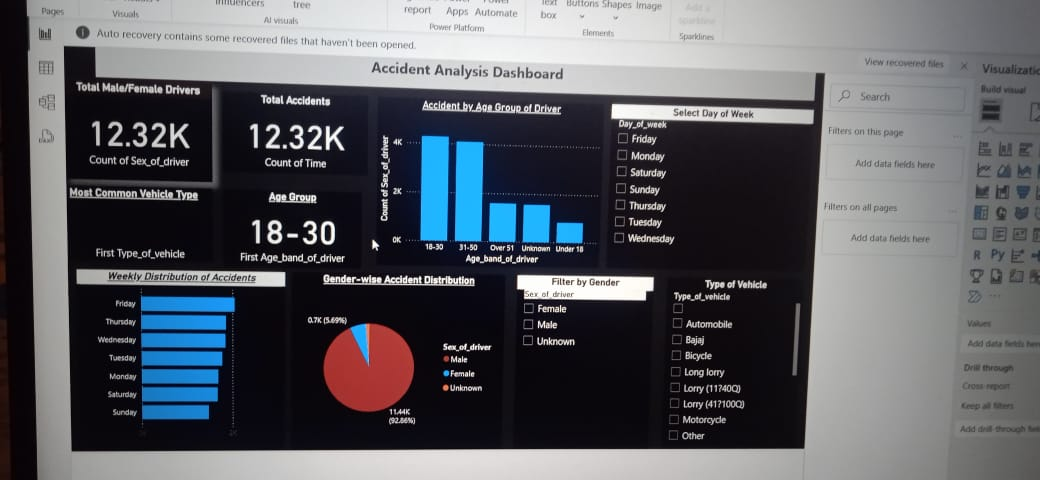

The page's visual inventory and layout, read from the dashboard file:
{"tool":"powerbi","page":{"name":"accident-analysis-dashboard1","canvas":[1280,720],"ordinal":0},"visuals":[{"type":"barChart","title":"Weekly Distribution of Accidents","fields":{"Category":["accident dataset1.Day_of_week"],"Y":["CountNonNull(accident dataset1.Sex_of_driver)"]},"box":[13.7,410.3,338.9,310.1],"z":0},{"type":"pieChart","title":"Gender-wise Accident Distribution","fields":{"Category":["accident dataset1.Sex_of_driver"],"Y":["CountNonNull(accident dataset1.Time)"]},"box":[363.6,410.3,363.6,310.1],"z":1},{"type":"slicer","title":"Filter by Gender","fields":{"Values":["accident dataset1.Sex_of_driver"]},"box":[749.2,410.3,241.5,310.1],"z":3},{"type":"slicer","title":"Select Day of Week","fields":{"Values":["accident dataset1.Day_of_week"]},"box":[905.7,109.8,358.1,285.4],"z":4},{"type":"slicer","title":"Type of Vehicle","fields":{"Values":["accident dataset1.Type_of_vehicle"]},"box":[1015.4,410.3,248.4,310.1],"z":5},{"type":"actionButton","box":[0,0,100,40],"z":6},{"type":"textbox","box":[49.4,39.8,1214.4,53.5],"z":7},{"type":"card","title":"Total Male/Female Drivers","fields":{"Values":["CountNonNull(accident dataset1.Sex_of_driver)"]},"box":[0,98.8,233.3,161.9],"z":8},{"type":"card","title":"Most Common Vehicle Type","fields":{"Values":["Min(accident dataset1.Type_of_vehicle)"]},"box":[0,271.7,233.3,123.5],"z":9},{"type":"columnChart","title":"Accident by Age Group of Driver","fields":{"Category":["accident dataset1.Age_band_of_driver"],"Y":["CountNonNull(accident dataset1.Sex_of_driver)"]},"box":[505,109.8,387,285.4],"z":10},{"type":"card","title":"Total Accidents","fields":{"Values":["CountNonNull(accident dataset1.Time)"]},"box":[251.1,109.8,237.4,133.1],"z":11},{"type":"card","title":"Age Group","fields":{"Values":["Min(accident dataset1.Age_band_of_driver)"]},"box":[251.1,271.7,227.8,130.4],"z":12}]}

Visuals, with their boxes on the page's 1280x720 design canvas (x1, y1, x2, y2). These are canvas units, not pixel positions in the 1040x480 screenshot, which may show the page scaled, cropped or inside an application window:
"Weekly Distribution of Accidents" barChart: region(14, 410, 353, 720)
"Gender-wise Accident Distribution" pieChart: region(364, 410, 727, 720)
"Filter by Gender" slicer: region(749, 410, 991, 720)
"Select Day of Week" slicer: region(906, 110, 1264, 395)
"Type of Vehicle" slicer: region(1015, 410, 1264, 720)
actionButton: region(0, 0, 100, 40)
textbox: region(49, 40, 1264, 93)
"Total Male/Female Drivers" card: region(0, 99, 233, 261)
"Most Common Vehicle Type" card: region(0, 272, 233, 395)
"Accident by Age Group of Driver" columnChart: region(505, 110, 892, 395)
"Total Accidents" card: region(251, 110, 488, 243)
"Age Group" card: region(251, 272, 479, 402)
